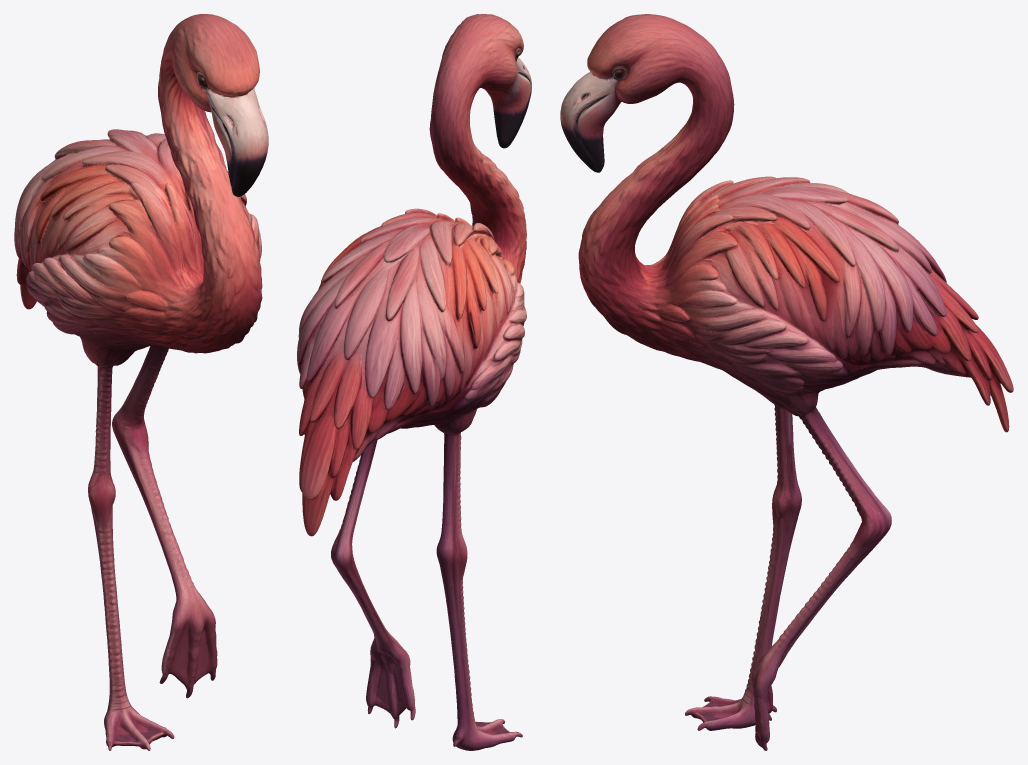
File: flamingo.glb
The picture shows the model from 3 angles, left to right: view 1: azimuth 30°, elevation 25°; view 2: azimuth 150°, elevation 25°; view 3: azimuth 270°, elevation 25°; orthographic projection. The views are drawn at different scales.
Visible parts, largest first — view 1: output_unwrapped; view 2: output_unwrapped; view 3: output_unwrapped.
Boxes of the visible parts, bbox=[...] form: output_unwrapped: bbox=[14, 14, 268, 750]; output_unwrapped: bbox=[297, 14, 531, 750]; output_unwrapped: bbox=[560, 14, 1013, 750].
Bounding box in the file's own units: 0.5504 × 1.9 × 1.08.
1 material, 1 textured.
